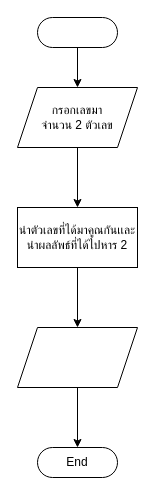
This 155x495 diagram has some shape labels left out. The centre of each missing label's shape, as x and y in pixels:
Start: (x=77, y=32)
แสดงผลลัพธ์: (x=77, y=357)
